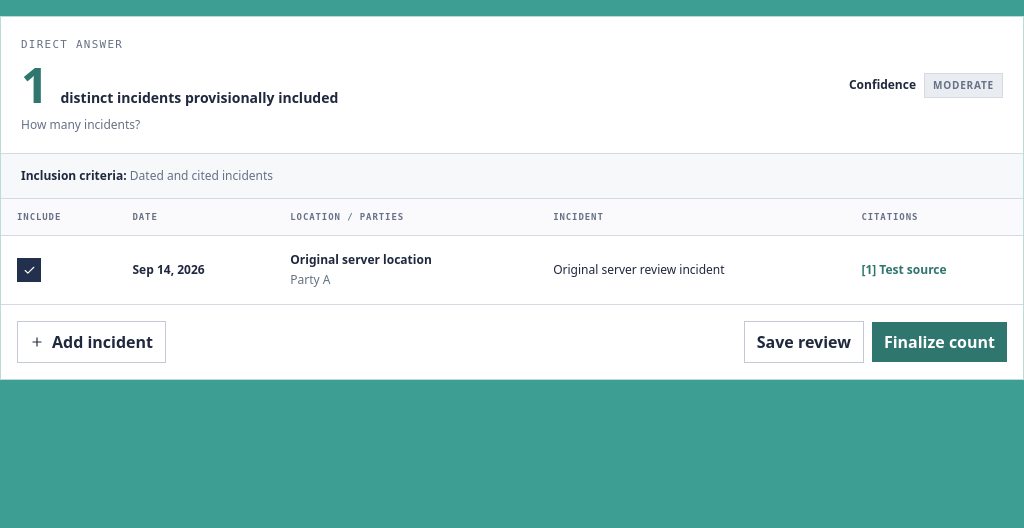
Test: CountAnswerReview conflict handling › keeps the local draft and allows another attempt when confirmed reload fails
This screenshot has width=1024, height=528.
Click the button named "Remove incident from count" at (29, 270), box [17, 258, 41, 282]
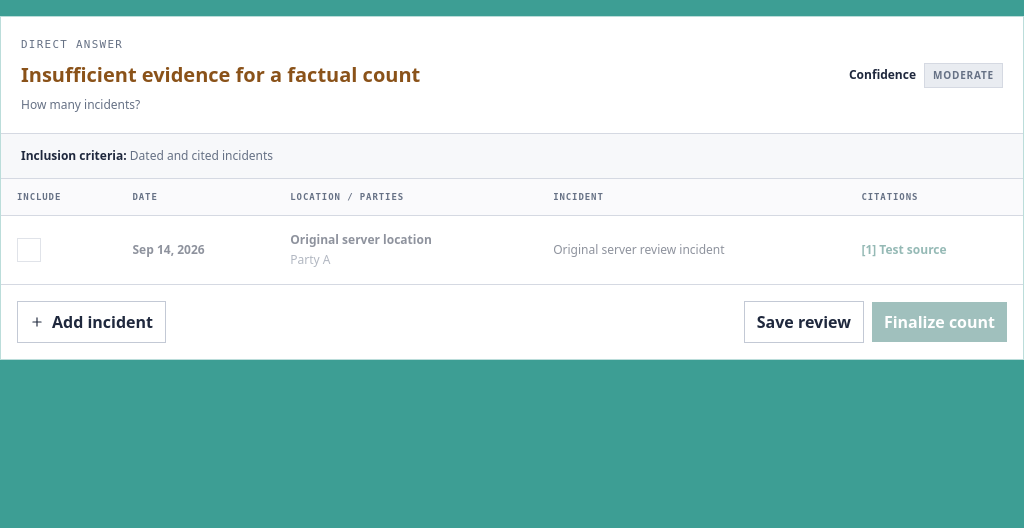
Click the button "Save review" at (804, 322), box [744, 301, 864, 343]
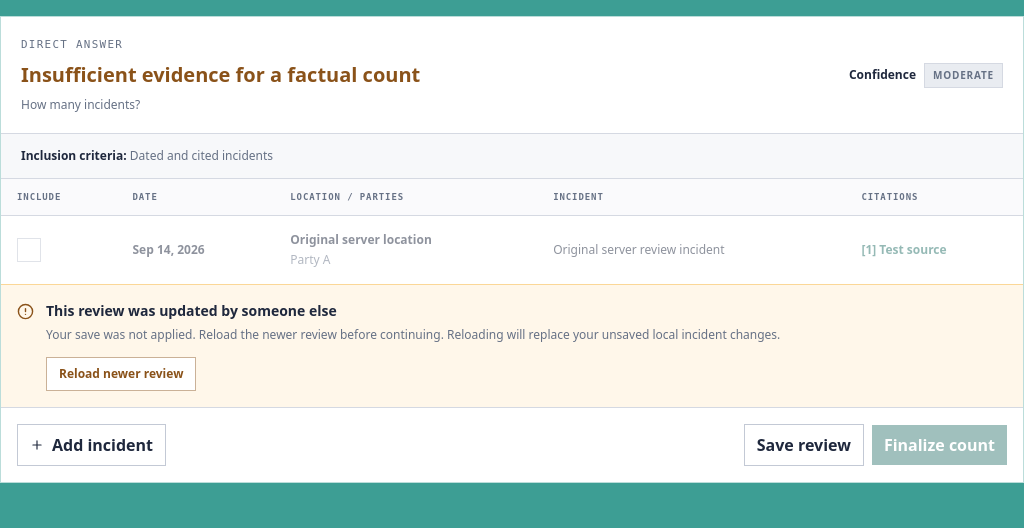
Click the button with test id "button-reload-review" at (121, 374), box [46, 357, 196, 391]
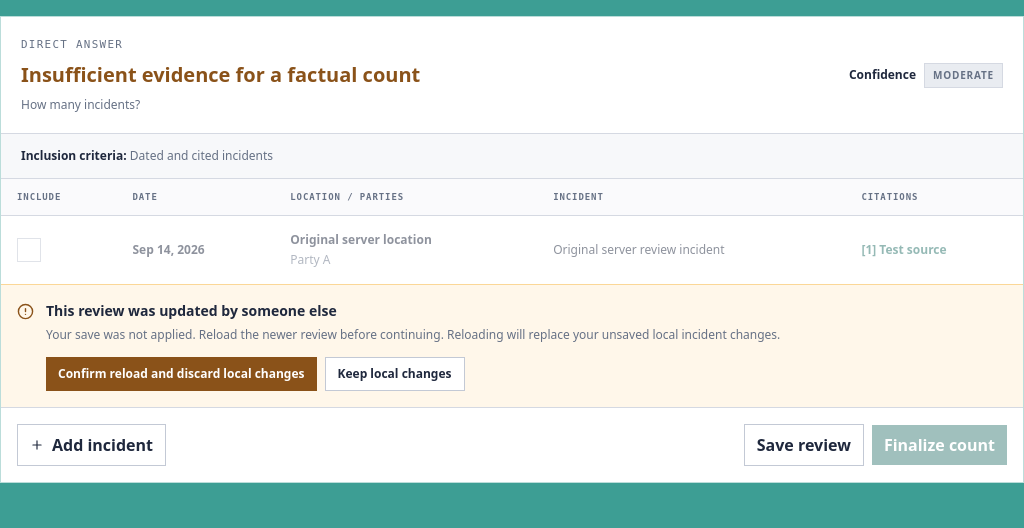
Click the button with test id "button-confirm-reload-review" at (181, 374), box [46, 357, 316, 391]
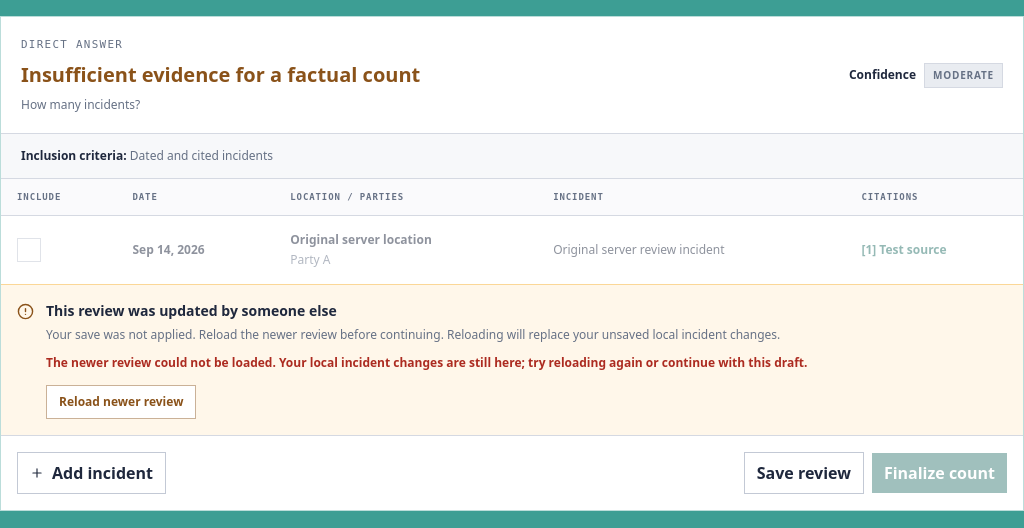
Now the button named "Approve incident" is shown, box [17, 238, 41, 262]
Now the text with test id "error-reload-review" is shown, box [46, 354, 808, 371]
Now the button with test id "button-reload-review" is shown
Click the button with test id "button-reload-review" at (121, 402), box [46, 385, 196, 419]
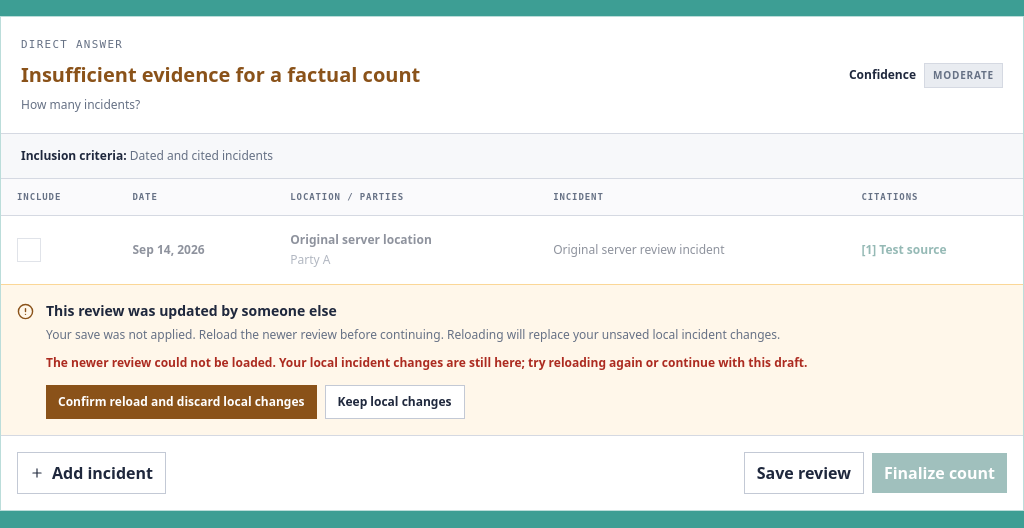
Click the button with test id "button-confirm-reload-review" at (181, 402), box [46, 385, 316, 419]
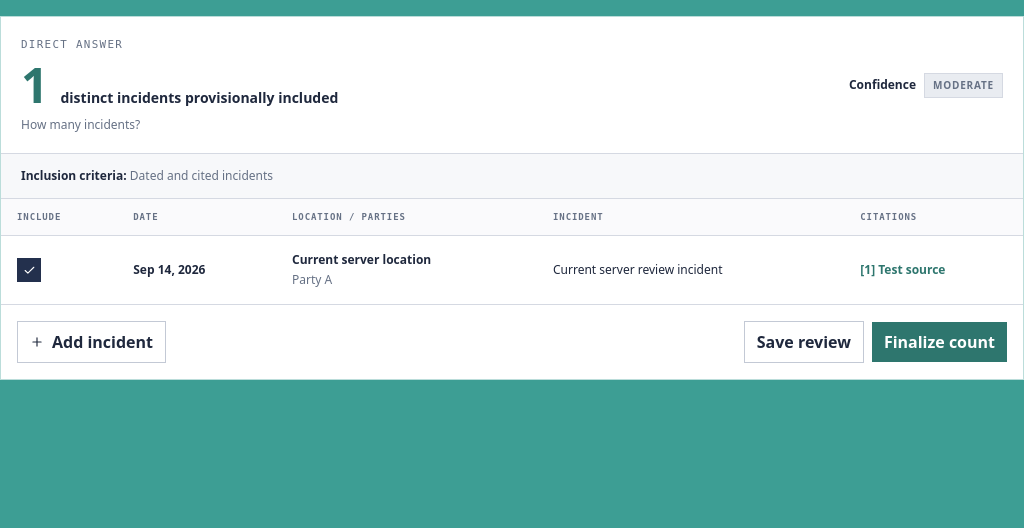
Now the text "Current server review incident" is shown, box [537, 236, 844, 304]
